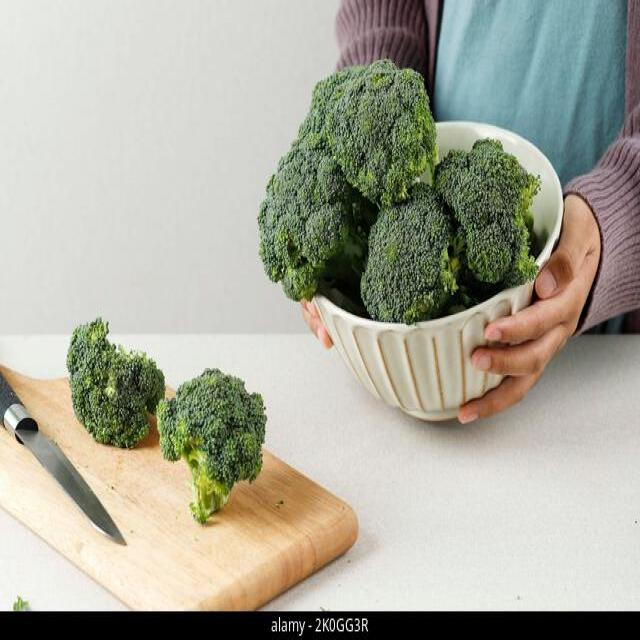broccoli: (260, 62, 542, 318), (154, 360, 272, 533), (66, 310, 168, 451)
